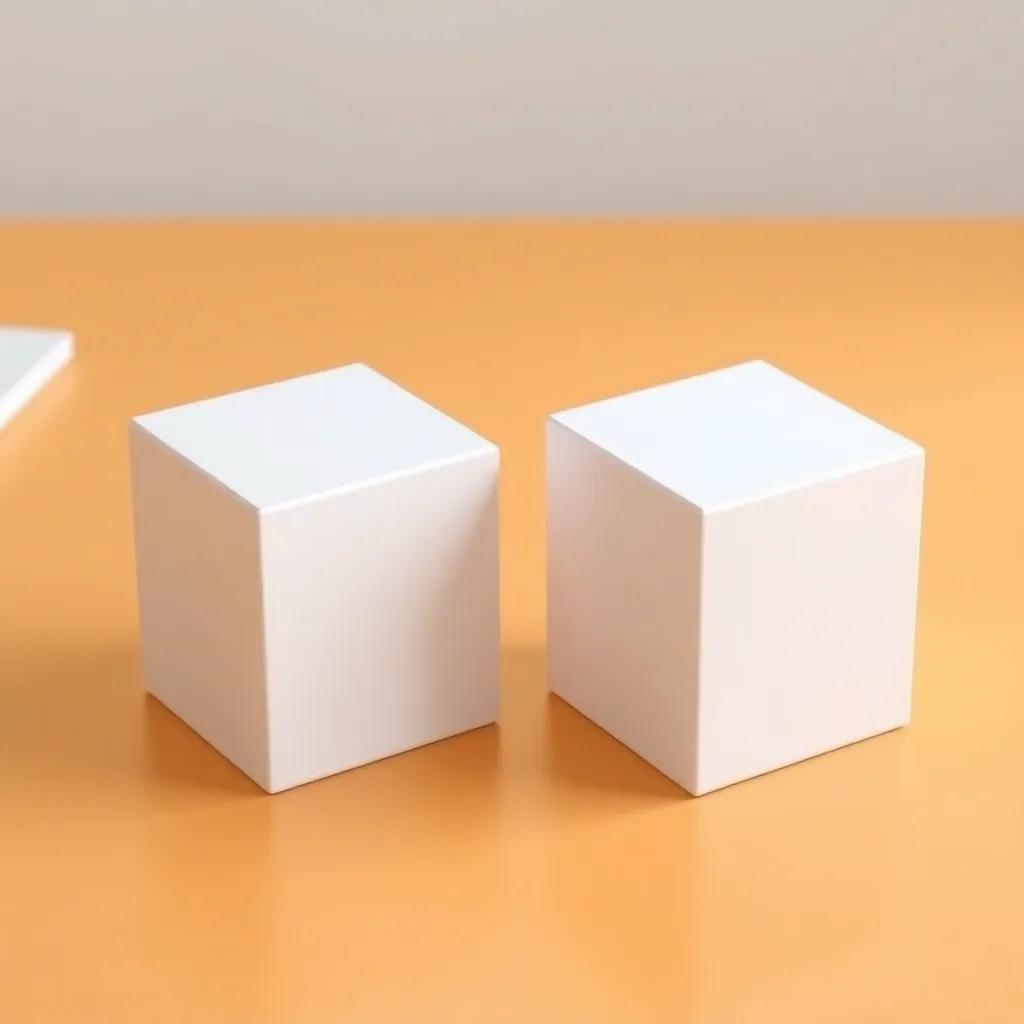cube: (544, 356, 925, 796), (127, 359, 501, 794)
